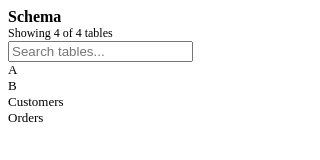
Test: SchemaListPanel.vue › table list and search › filters the list as the user types (case-insensitive substring)
This screenshot has width=320, height=160.
Type "cus" into the field with placeholder "Search tables..." at (100, 52), box [8,41,193,62]
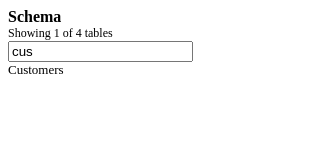
Expected: the text "Customers" is shown, [8,62,64,77]
Now the text "Orders" is gone
Now the text "Showing 1 of 4 tables" is shown, box [8,26,113,40]
